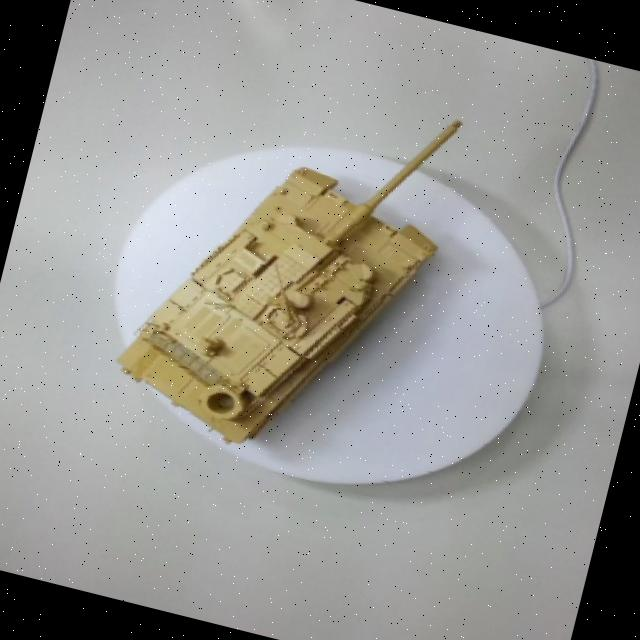korea tank: (84, 42, 493, 530)
